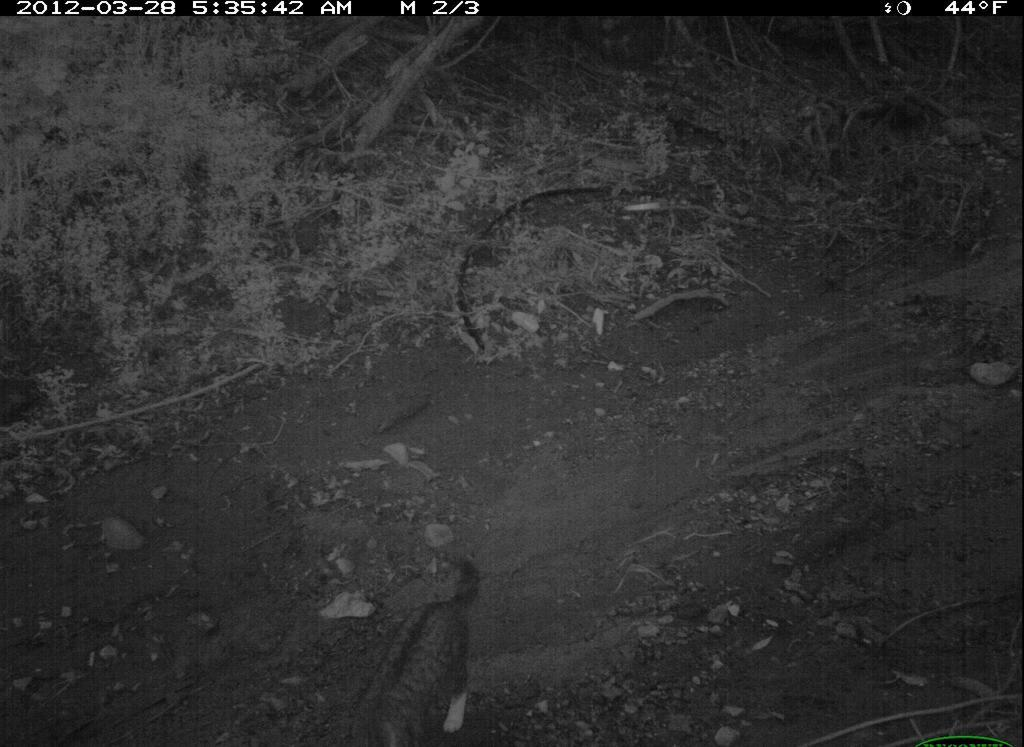cat: (331, 552, 510, 747)
